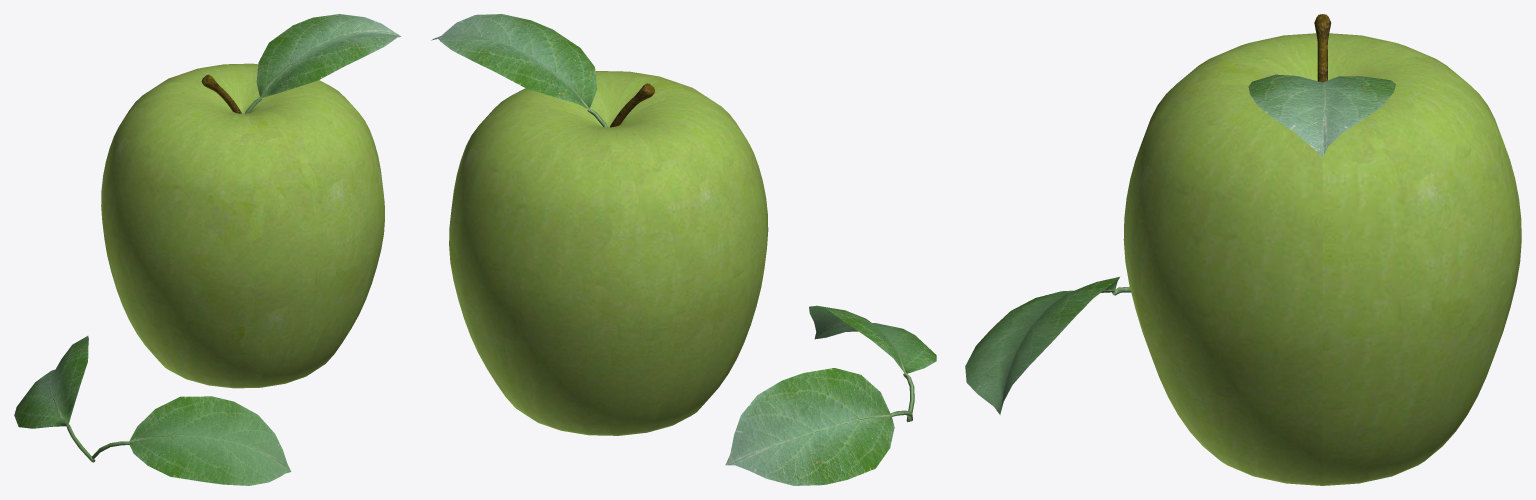
File: pingguo.fbx
3 views of the same model, side by side, from view 1: azimuth 30°, elevation 25°; view 2: azimuth 150°, elevation 25°; view 3: azimuth 270°, elevation 25° (orthographic). The views are drawn at different scales.
Parts seen in each view (by area): view 1: Model_002_Apple_02, Model_002_Apple_21, Model_002_Apple_03, Model_002_Apple_22, Model_002_Apple_01; view 2: Model_002_Apple_02, Model_002_Apple_22, Model_002_Apple_03, Model_002_Apple_21, Model_002_Apple_01; view 3: Model_002_Apple_02, Model_002_Apple_21, Model_002_Apple_03, Model_002_Apple_01.
Boxes of the visible parts, x1,y1,x2,y2 form: Model_002_Apple_02: [101, 63, 384, 388]; Model_002_Apple_21: [92, 396, 291, 485]; Model_002_Apple_03: [245, 14, 401, 113]; Model_002_Apple_22: [14, 336, 95, 462]; Model_002_Apple_01: [201, 74, 241, 113]; Model_002_Apple_02: [449, 71, 768, 435]; Model_002_Apple_22: [725, 368, 912, 485]; Model_002_Apple_03: [431, 14, 607, 127]; Model_002_Apple_21: [809, 305, 936, 422]; Model_002_Apple_01: [610, 83, 654, 127]; Model_002_Apple_02: [1123, 33, 1521, 485]; Model_002_Apple_21: [965, 277, 1131, 414]; Model_002_Apple_03: [1248, 74, 1395, 156]; Model_002_Apple_01: [1314, 14, 1330, 82].
Bounding box in the file's own units: 11.78 × 9.14 × 10.45.
